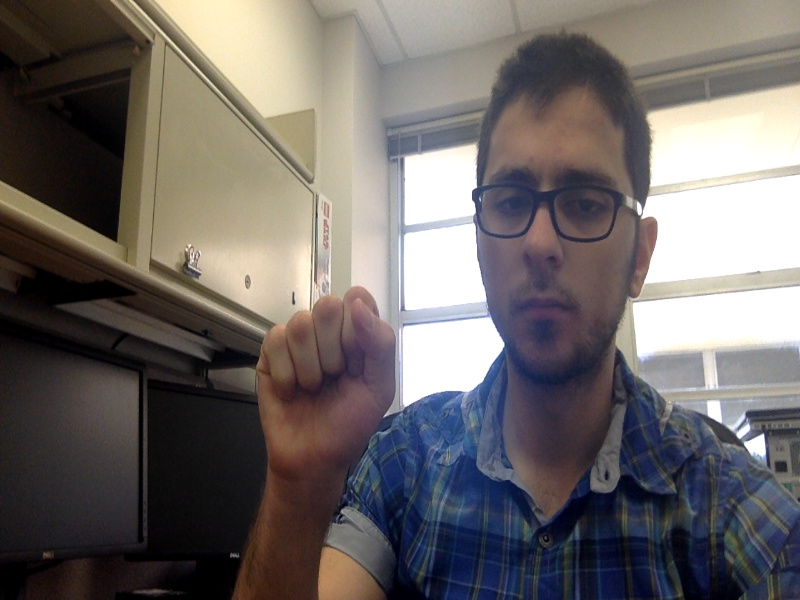0-hand: (256, 288, 395, 468)
